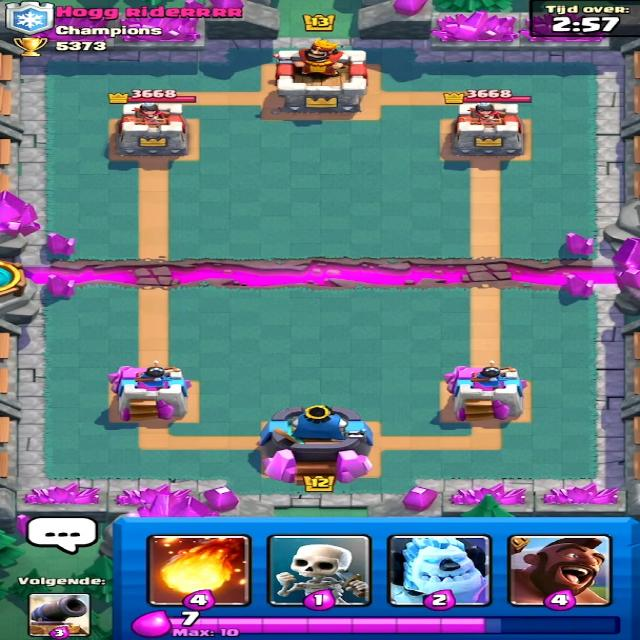Fireball_Card: (152, 536, 248, 606)
Hog_Rider_Card: (506, 535, 612, 606)
Ice_Golem_Card: (384, 536, 492, 605)
Skeleton_Card: (270, 533, 366, 604)
